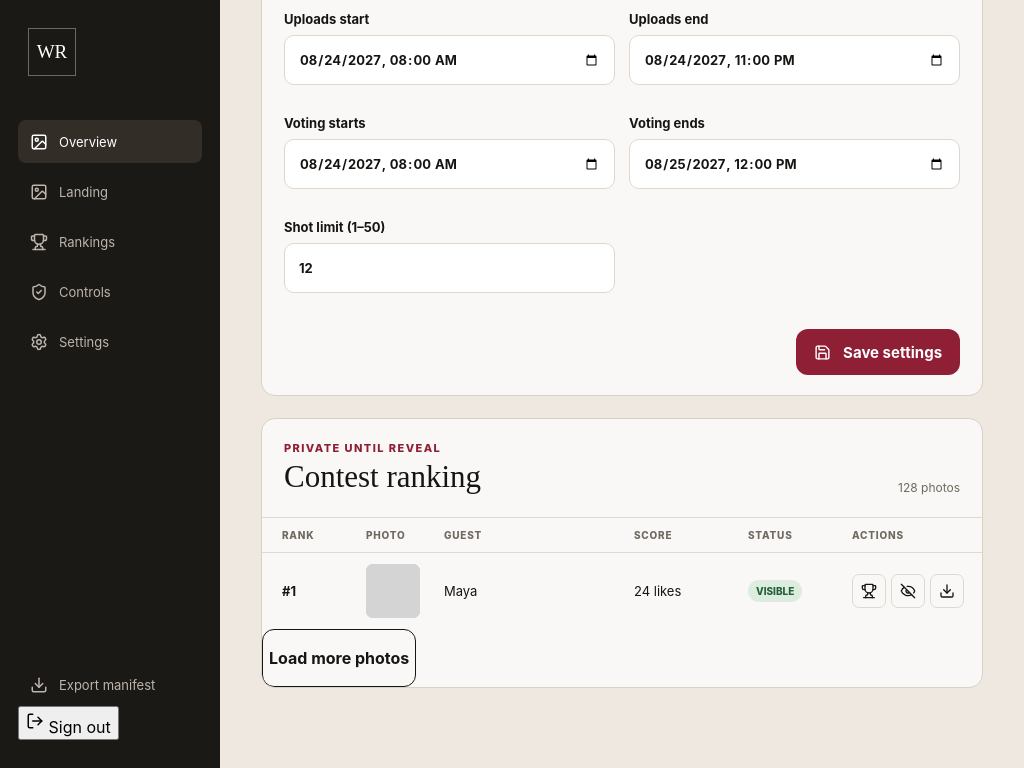
Test: AdminDashboard › paginates the moderation list
This screenshot has width=1024, height=768.
(page scrolled)
Click the button "Load more photos".
click(339, 658)  # box left=262, top=629, right=416, bottom=687
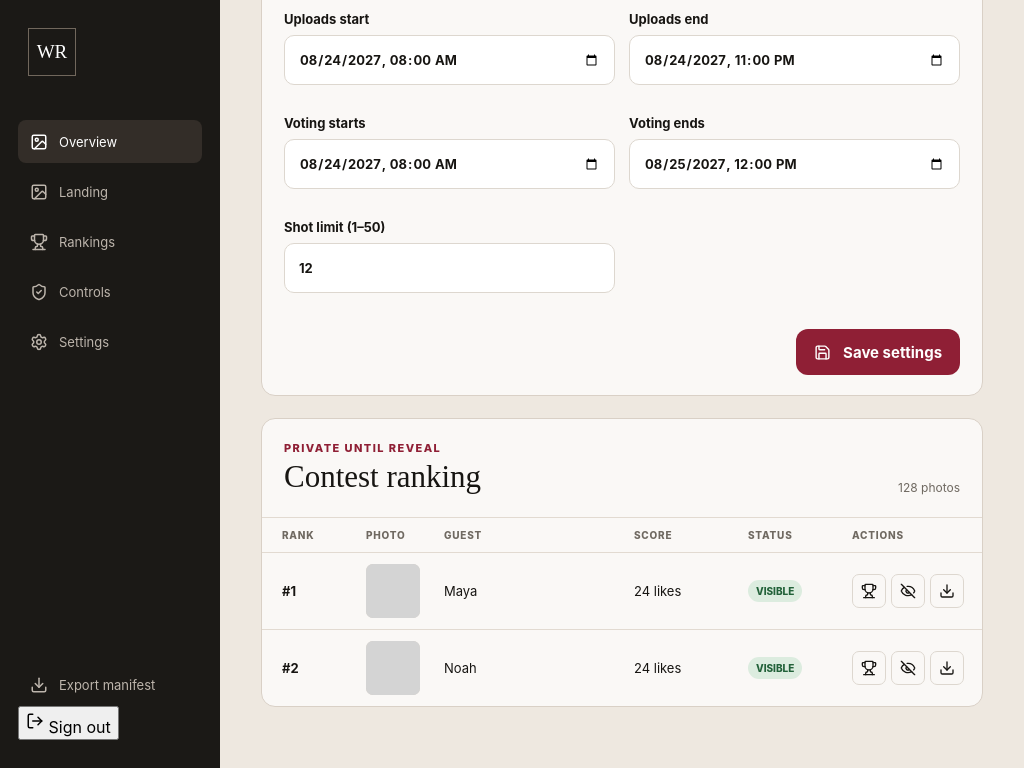
Check: the text "Noah" is shown, box left=444, top=660, right=477, bottom=676
Check: the button "Load more photos" is gone
